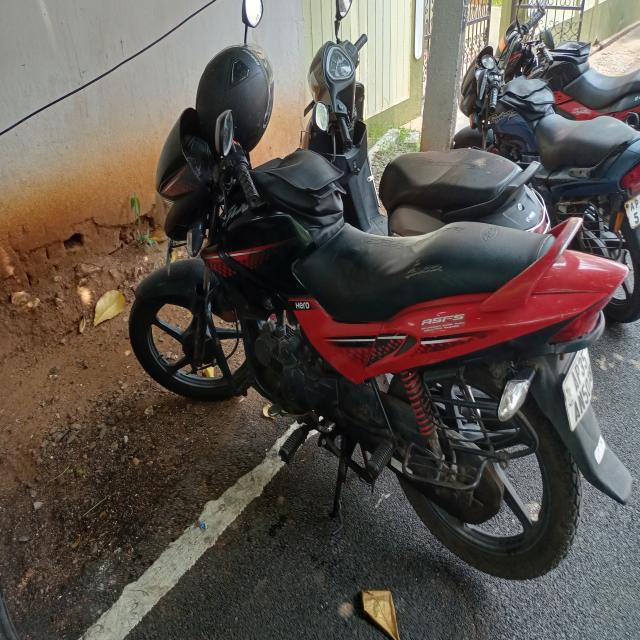bike: (133, 101, 627, 576), (308, 51, 564, 235), (456, 46, 640, 275)
